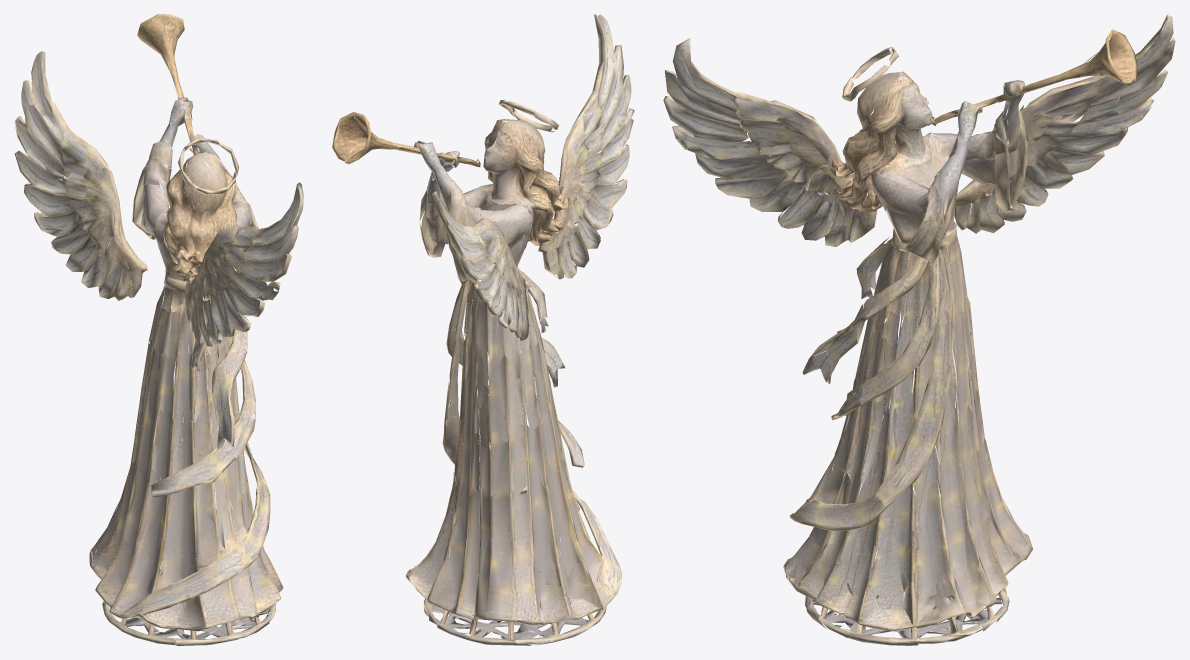
Rendered from lt_angel.glb.
The picture shows the model from 3 angles, left to right: view 1: azimuth 30°, elevation 25°; view 2: azimuth 150°, elevation 25°; view 3: azimuth 270°, elevation 25°; orthographic projection. The views are drawn at different scales.
Parts seen in each view (by area): view 1: tripo_node_c9a2e185-53f3-4a6a-b664-08e49accff9b; view 2: tripo_node_c9a2e185-53f3-4a6a-b664-08e49accff9b; view 3: tripo_node_c9a2e185-53f3-4a6a-b664-08e49accff9b.
Boxes of the visible parts, bbox=[...] form: tripo_node_c9a2e185-53f3-4a6a-b664-08e49accff9b: bbox=[14, 14, 303, 645]; tripo_node_c9a2e185-53f3-4a6a-b664-08e49accff9b: bbox=[332, 14, 634, 645]; tripo_node_c9a2e185-53f3-4a6a-b664-08e49accff9b: bbox=[663, 14, 1175, 645].
Size of the model in its own units: 0.3339 by 1 by 0.7652.
1 material, 1 textured.
